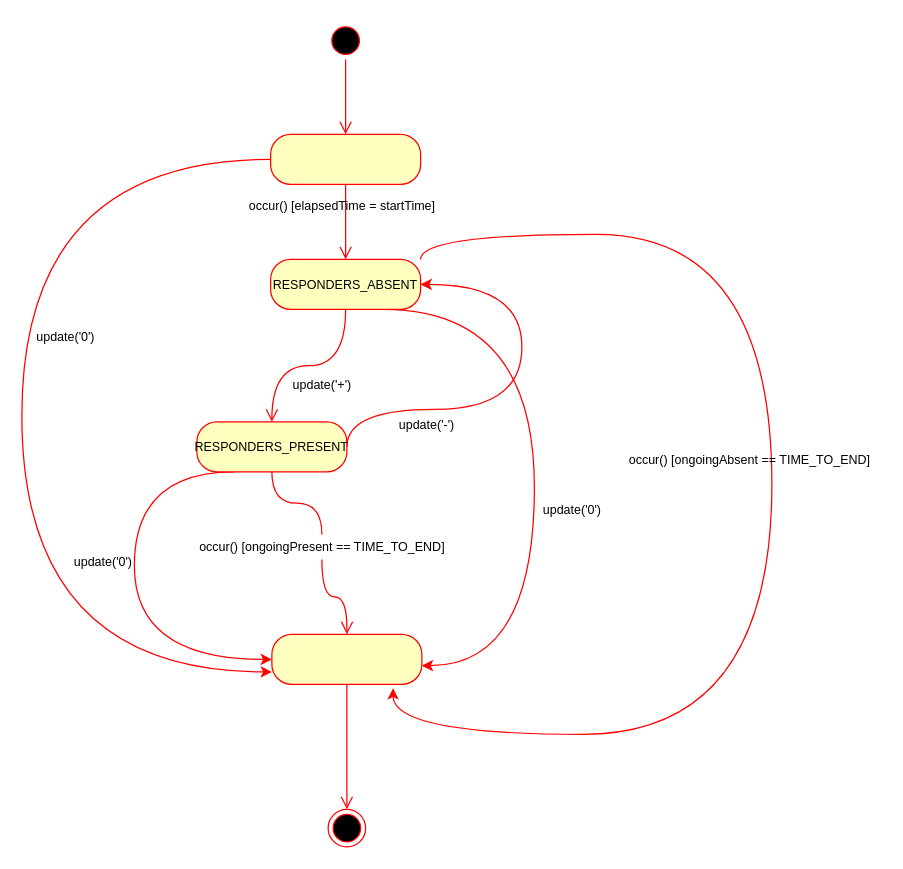
The diagram is 903 pixels wide and 869 high, and some of its shapes have lost their labels. Each missing label, with the centre of its shape:
"END" belongs at (346,658).
"INACTIVE" belongs at (345,158).
